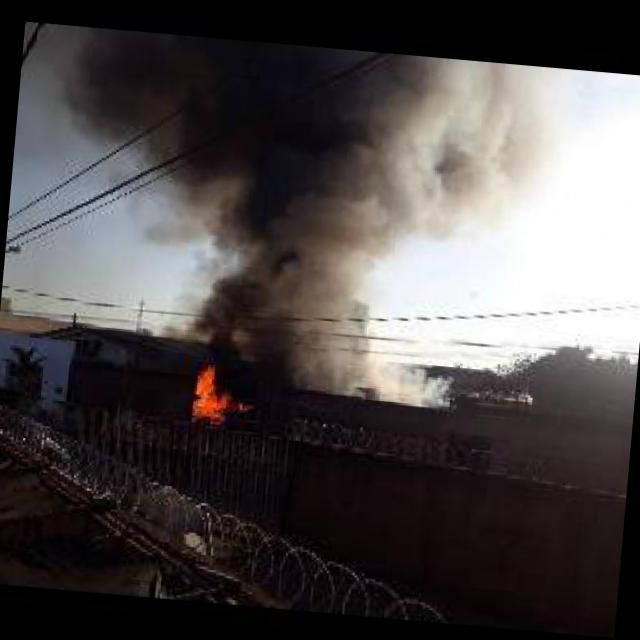fire: (194, 366, 222, 422)
smoke: (182, 39, 404, 383), (388, 54, 558, 254), (376, 366, 462, 416)
